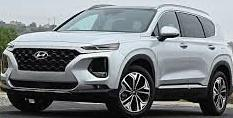Crossovers: (1, 7, 233, 118)
